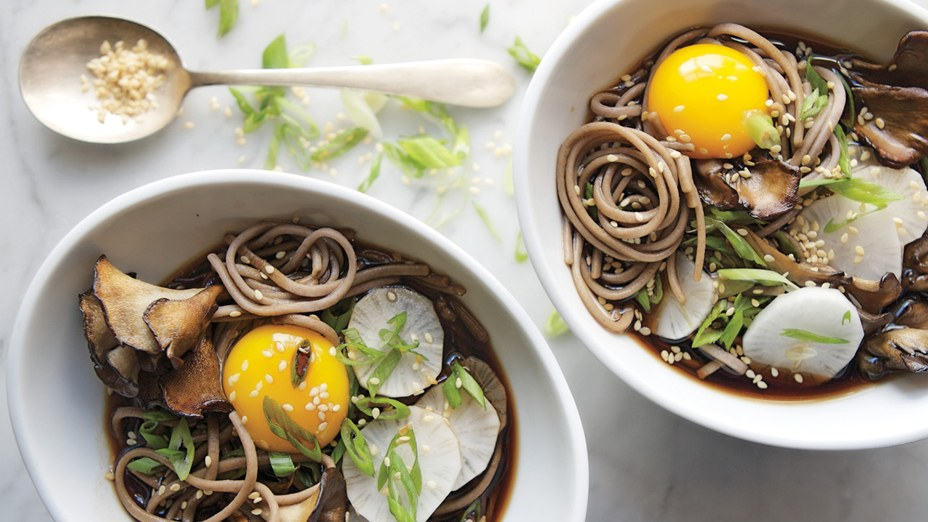Soba: (103, 227, 520, 522), (591, 30, 861, 362)
